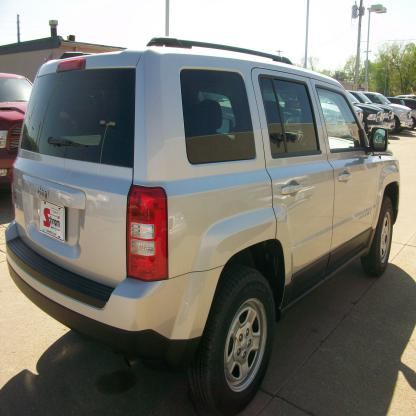Vehicle: (2, 36, 402, 415)
